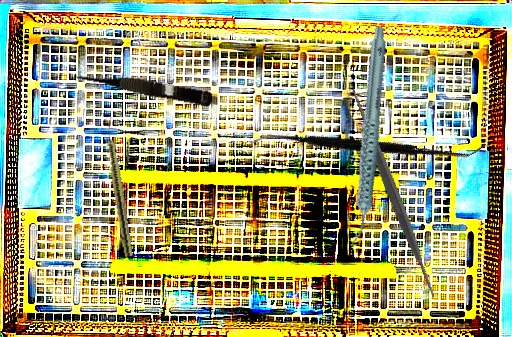Handpiece: (305, 25, 429, 246), (102, 116, 135, 257)
Micro Scissor: (70, 64, 214, 108)
Spatula Surgical: (276, 75, 511, 310), (249, 44, 488, 244)
